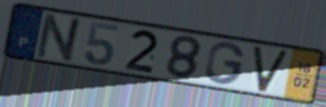2: (124, 29, 160, 75)
5: (83, 20, 121, 67)
8: (166, 34, 204, 80)
G: (203, 41, 247, 86)
N: (33, 11, 87, 64)
V: (252, 46, 291, 94)
